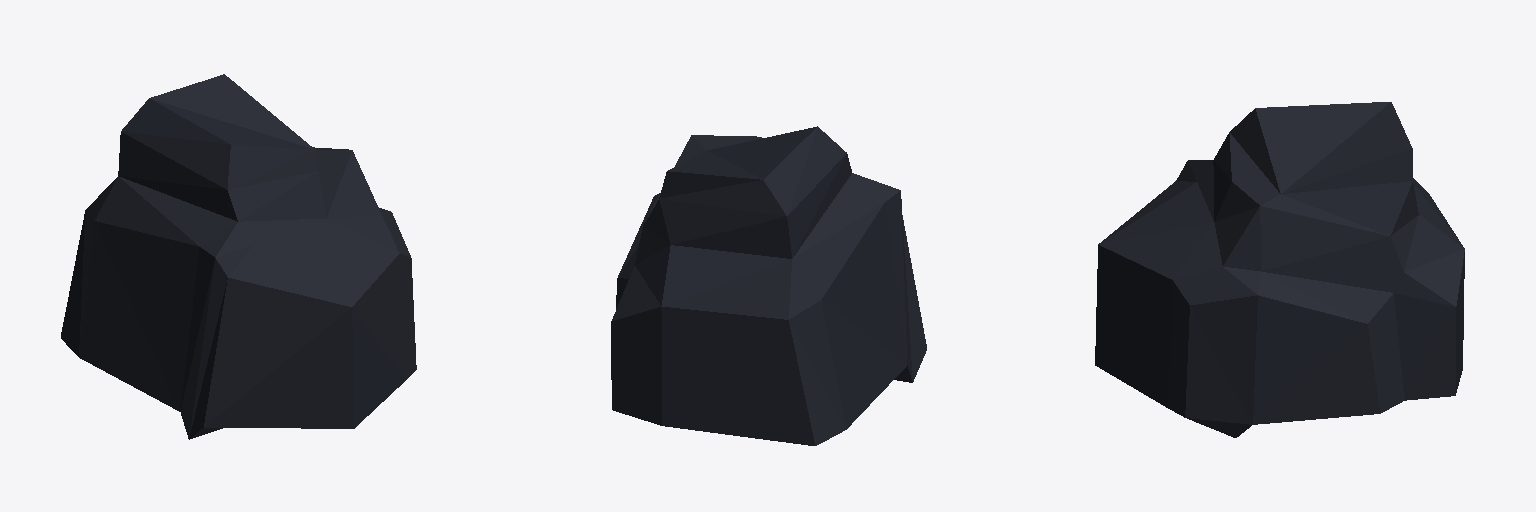
File: Rock_7_Cube.obj
3 views of the same model, side by side, from view 1: azimuth 30°, elevation 25°; view 2: azimuth 150°, elevation 25°; view 3: azimuth 270°, elevation 25° (orthographic).
Parts seen in each view (by area): view 1: Rock_7_Cube.030; view 2: Rock_7_Cube.030; view 3: Rock_7_Cube.030.
Boxes of the visible parts, box(x1,y1,x2,y2) form: Rock_7_Cube.030: box(61, 74, 416, 439); Rock_7_Cube.030: box(611, 126, 926, 445); Rock_7_Cube.030: box(1095, 102, 1464, 437).
Bounding box in the file's own units: 0.8755 × 0.8494 × 1.1.